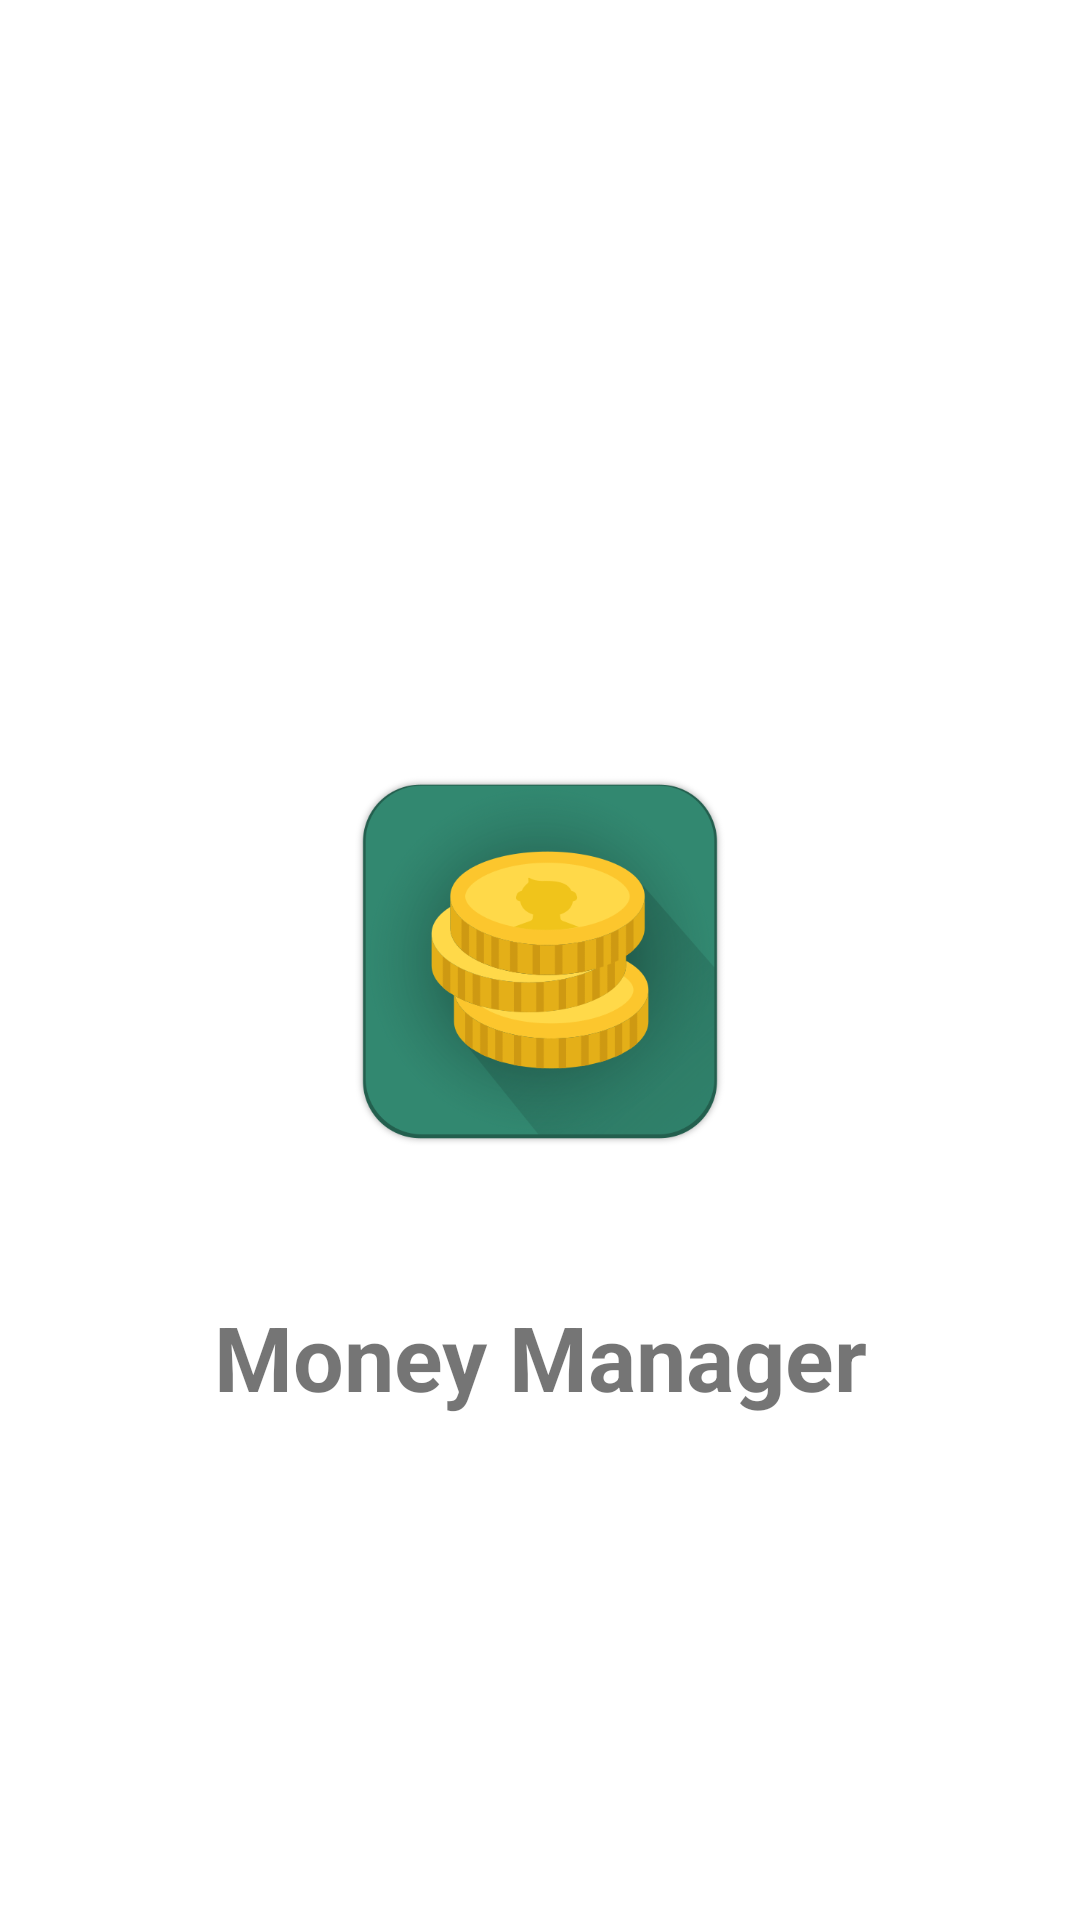

Where icons sit on this 1080w x 1920h app screen, as box=[x1, y1, x2, y2]:
App icon: box=[361, 783, 719, 1140]
